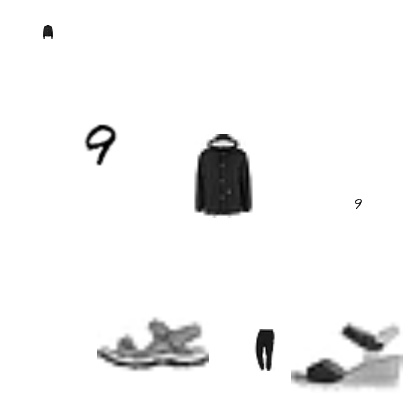9: (73, 113, 129, 169), (351, 196, 365, 210)
Coat: (180, 134, 264, 218), (41, 25, 55, 39)
Sandal: (97, 286, 209, 398), (291, 299, 403, 411)
Trouser: (243, 329, 285, 371)
